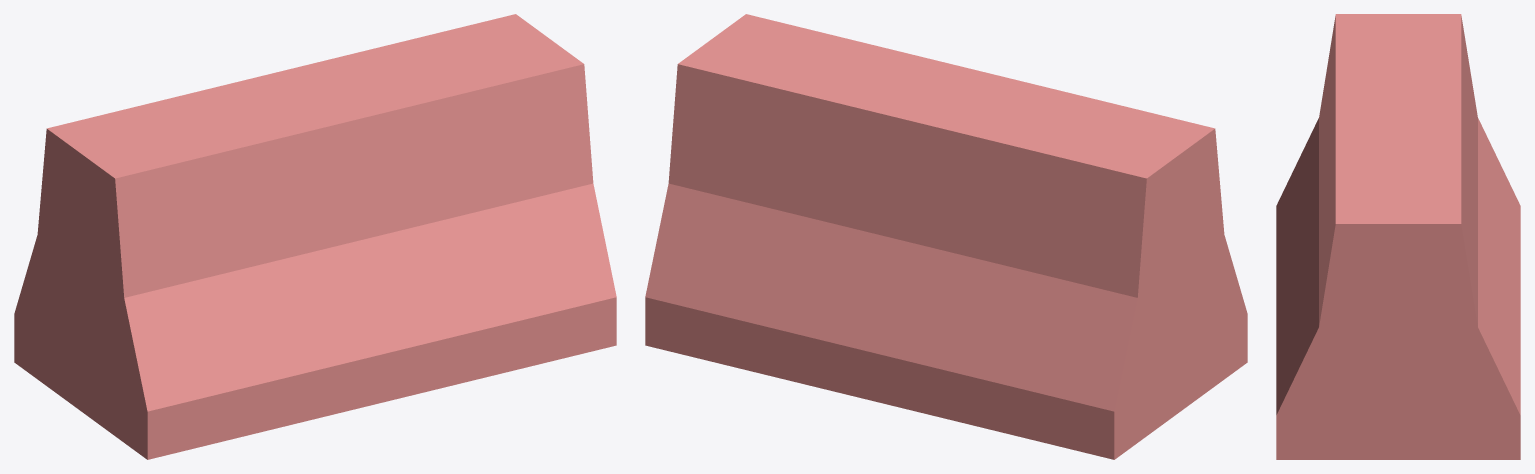
File: barrierRed.gltf
3 renders of one model, left to right at view 1: azimuth 30°, elevation 25°; view 2: azimuth 150°, elevation 25°; view 3: azimuth 270°, elevation 25°, orthographic. The views are drawn at different scales.
Parts seen in each view (by area): view 1: barrierRed; view 2: barrierRed; view 3: barrierRed.
Part boxes in pixels (x1,y1,x2,y2): barrierRed: (14,14,616,459); barrierRed: (645,14,1247,459); barrierRed: (1276,14,1520,459).
Bounding box in the file's own units: 2.5 × 1.31 × 1.23.
